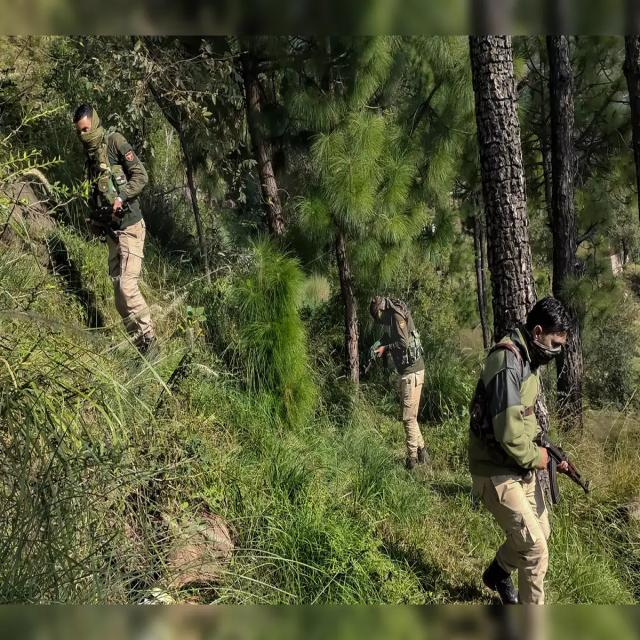Forest: (0, 36, 640, 607)
Militant: (452, 294, 584, 606), (48, 81, 179, 357), (352, 272, 455, 490)
